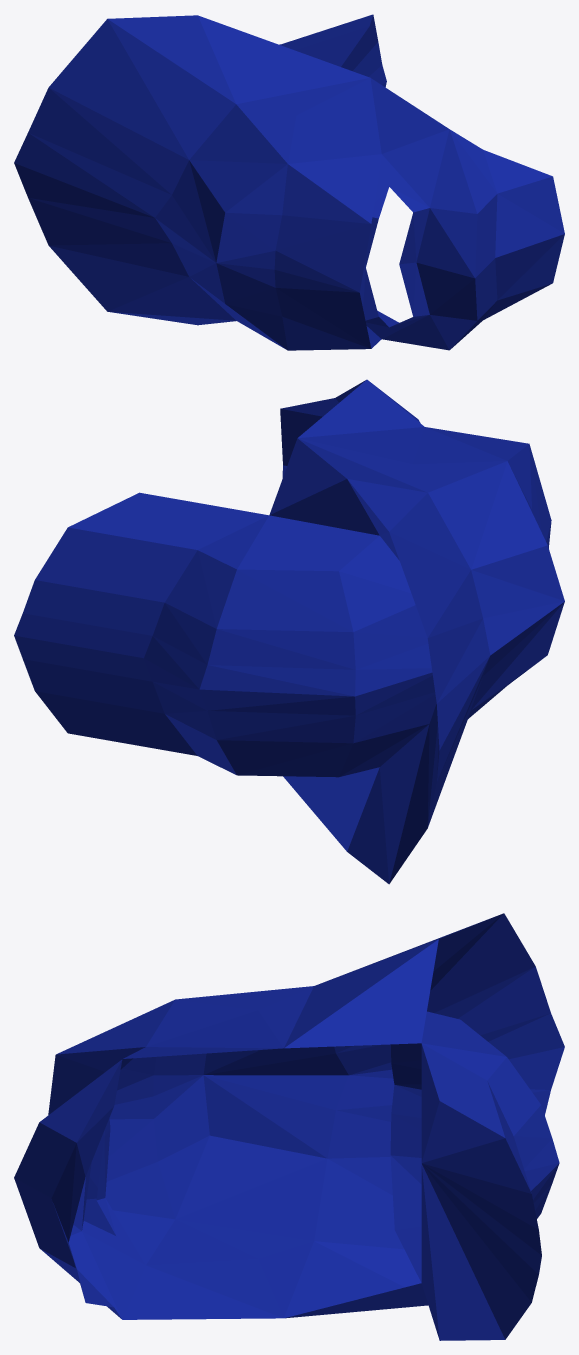
File: TestHelmet.obj
The picture shows the model from 3 angles, top to bottom: view 1: azimuth 30°, elevation 25°; view 2: azimuth 150°, elevation 25°; view 3: azimuth 270°, elevation 25°; orthographic projection. The views are drawn at different scales.
Parts seen in each view (by area): view 1: SquidHelm_Cube.004; view 2: SquidHelm_Cube.004; view 3: SquidHelm_Cube.004.
Boxes of the visible parts, left/top/right/bottom form: SquidHelm_Cube.004: left=14, top=14, right=564, bottom=350; SquidHelm_Cube.004: left=14, top=379, right=564, bottom=884; SquidHelm_Cube.004: left=14, top=913, right=564, bottom=1340.
Size of the model in its own units: 0.3199 by 0.2608 by 0.3565.
